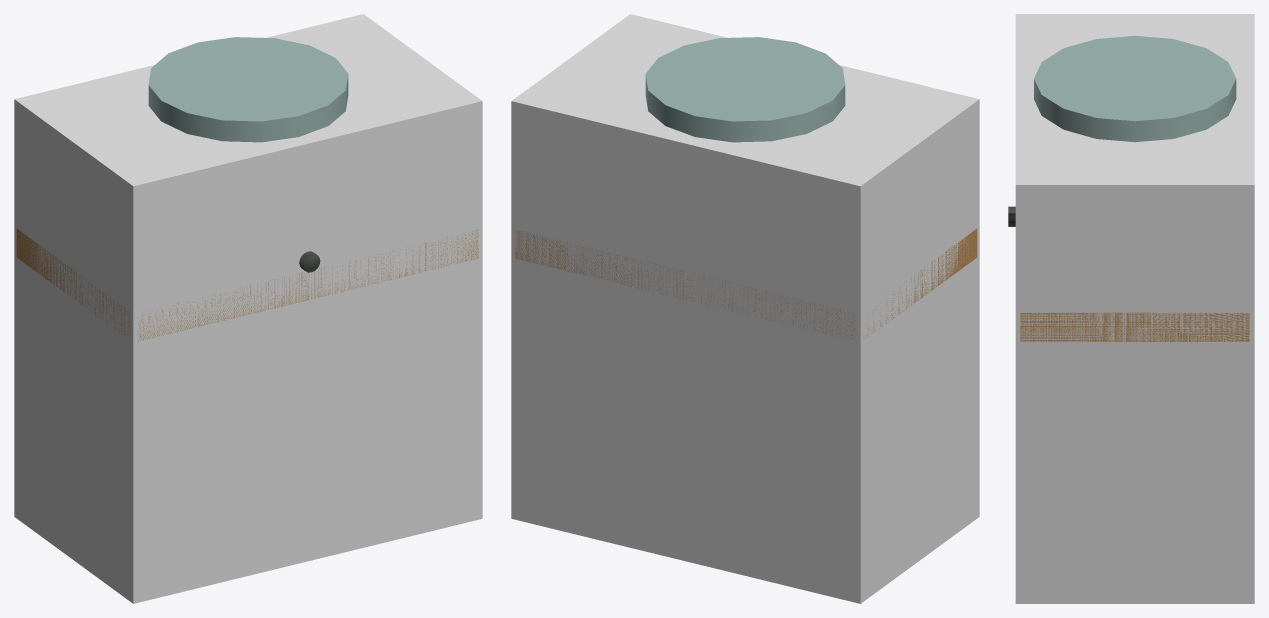
File: hydration-station_commercial.glb
The picture shows the model from 3 angles, left to right: view 1: azimuth 30°, elevation 25°; view 2: azimuth 150°, elevation 25°; view 3: azimuth 270°, elevation 25°; orthographic projection.
Visible parts, largest first — view 1: COL_hydration-station, MESH_Reservoir, MESH_Countertop; view 2: COL_hydration-station, MESH_Reservoir, MESH_Countertop; view 3: COL_hydration-station, MESH_Reservoir, MESH_Countertop.
Part boxes in pixels (<box>): COL_hydration-station: <box>14,14,482,603</box>; MESH_Reservoir: <box>148,37,348,142</box>; MESH_Countertop: <box>16,228,478,341</box>; COL_hydration-station: <box>511,14,979,603</box>; MESH_Reservoir: <box>645,37,845,142</box>; MESH_Countertop: <box>515,228,977,339</box>; COL_hydration-station: <box>1015,14,1254,603</box>; MESH_Reservoir: <box>1034,35,1236,142</box>; MESH_Countertop: <box>1020,312,1249,341</box>.
Size of the model in its own units: 1.05 by 1.26 by 0.6386.
